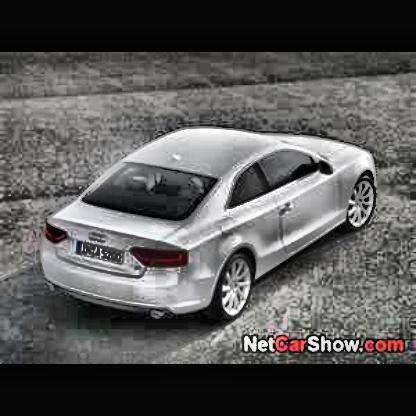Audi S5 Coupe 2012: (45, 120, 377, 325)
